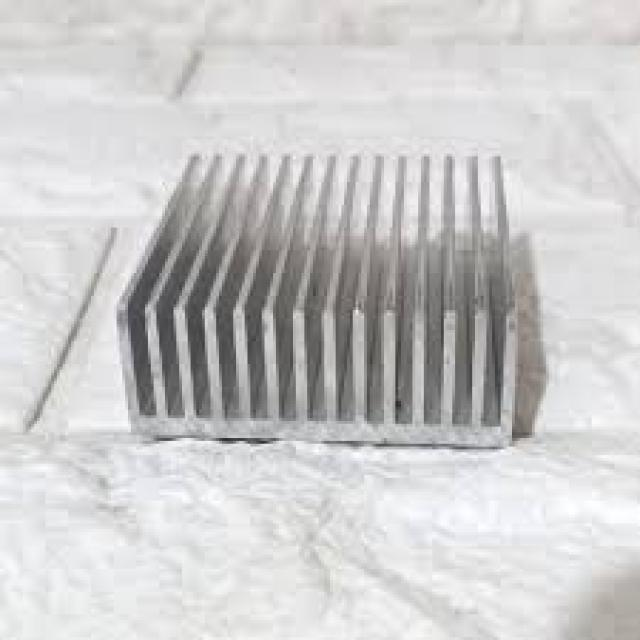Milling: (83, 115, 588, 469)
